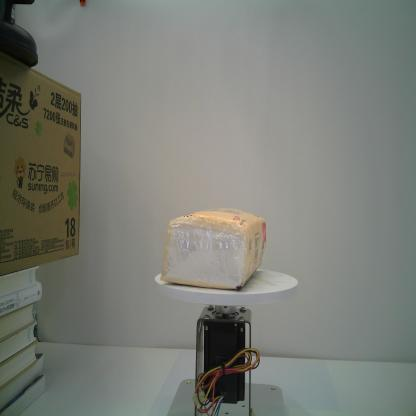Tissue: (158, 206, 267, 294)
